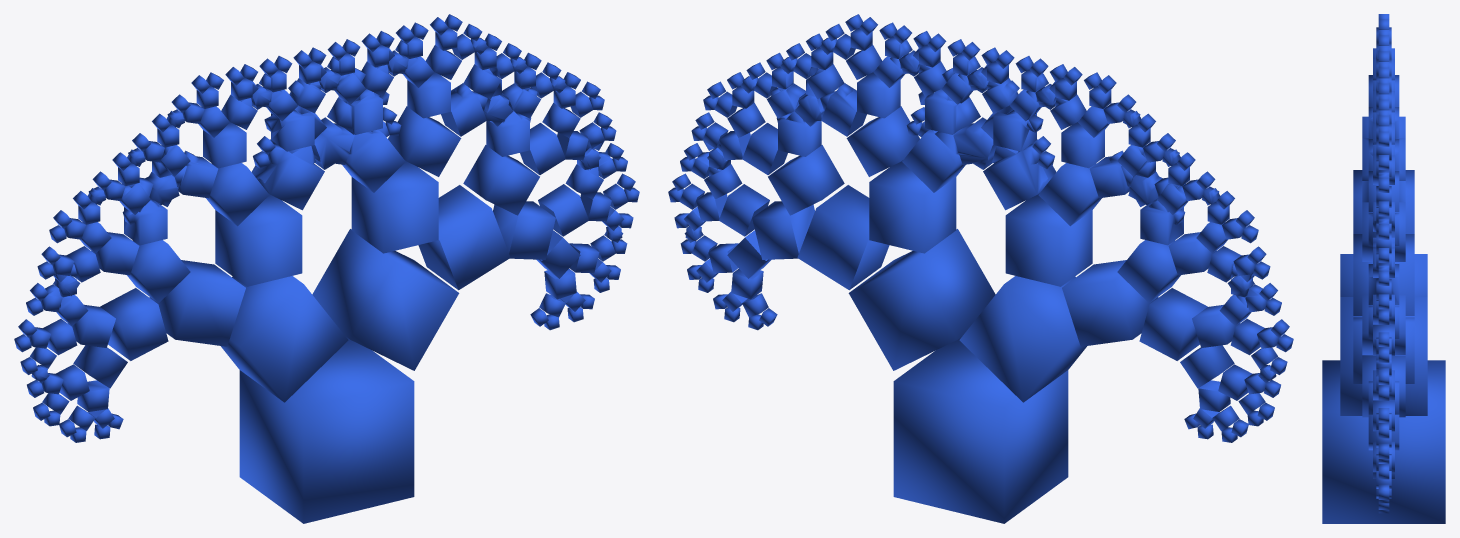
The model's file is albero.obj.
The picture shows the model from 3 angles, left to right: view 1: azimuth 30°, elevation 25°; view 2: azimuth 150°, elevation 25°; view 3: azimuth 270°, elevation 25°; orthographic projection. The views are drawn at different scales.
Size of the model in its own units: 5.6 by 3.81 by 1.
